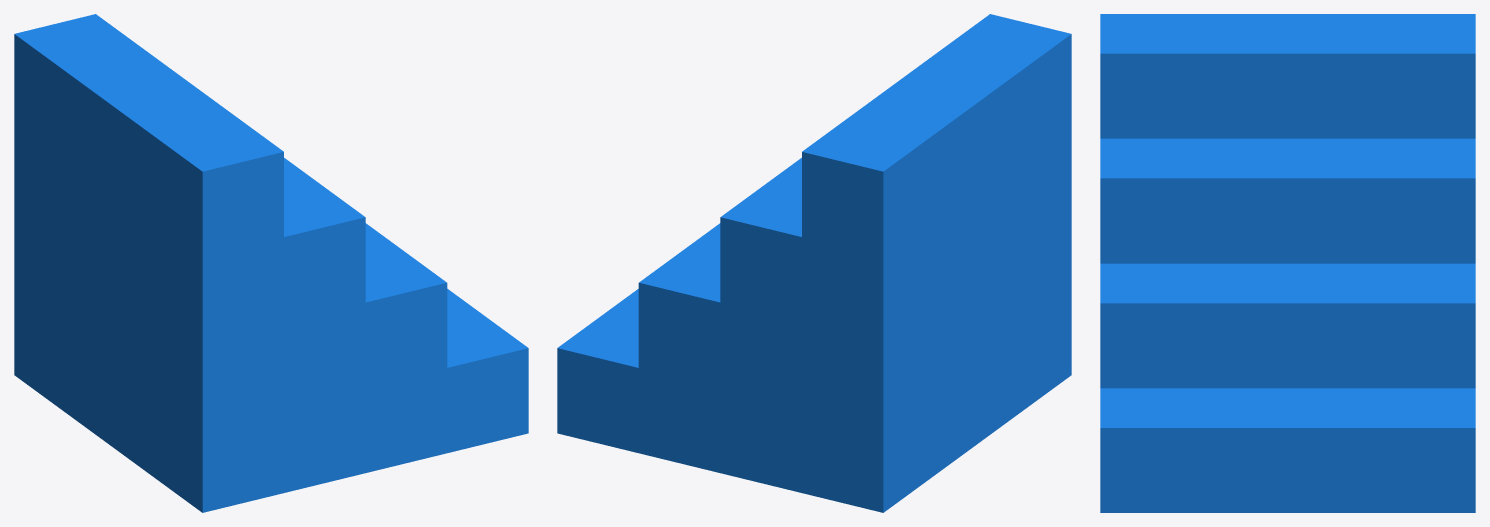
The model's file is Proto_Block_Stairs_01.fbx.
3 views of the same model, side by side, from view 1: azimuth 30°, elevation 25°; view 2: azimuth 150°, elevation 25°; view 3: azimuth 270°, elevation 25° (orthographic).
Parts seen in each view (by area): view 1: Proto_Block_Stairs_01; view 2: Proto_Block_Stairs_01; view 3: Proto_Block_Stairs_01.
Boxes of the visible parts, bbox=[...] form: Proto_Block_Stairs_01: bbox=[14, 14, 528, 512]; Proto_Block_Stairs_01: bbox=[557, 14, 1071, 512]; Proto_Block_Stairs_01: bbox=[1100, 14, 1475, 512].
Bounding box in the file's own units: 1 × 1 × 1.
